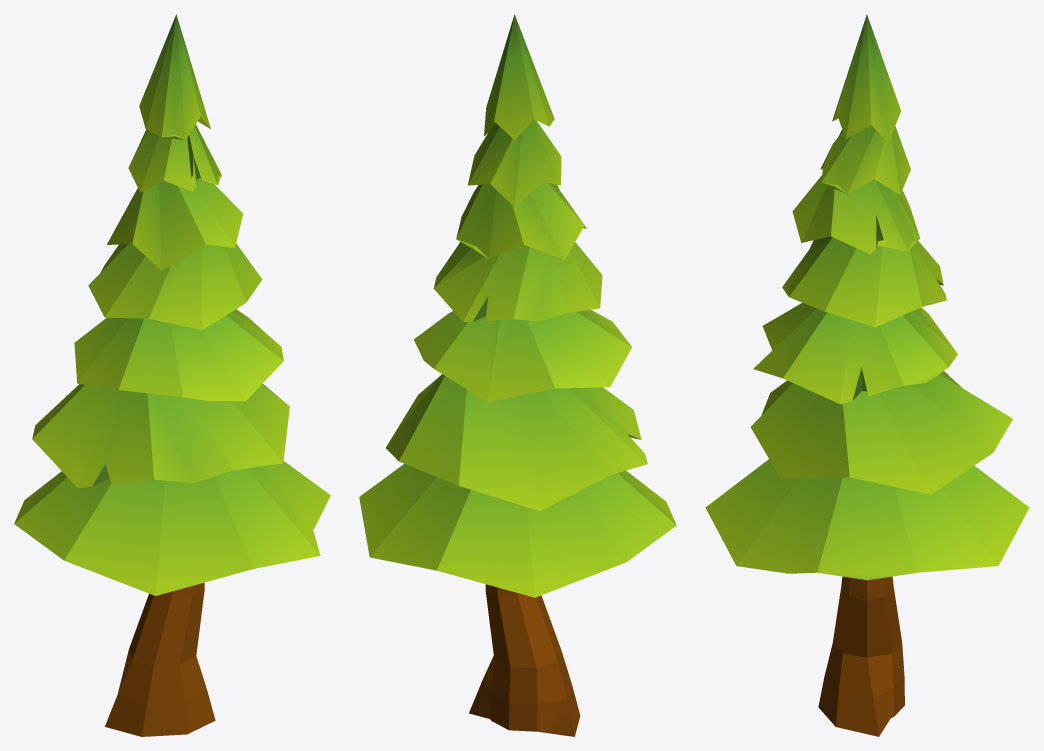
The model's file is tree.glb.
3 views of the same model, side by side, from view 1: azimuth 30°, elevation 25°; view 2: azimuth 150°, elevation 25°; view 3: azimuth 270°, elevation 25° (orthographic).
Parts seen in each view (by area): view 1: Cylinder_Material.002_0; view 2: Cylinder_Material.002_0; view 3: Cylinder_Material.002_0.
Part boxes in pixels (left/top/right/bottom): Cylinder_Material.002_0: left=14, top=14, right=330, bottom=736; Cylinder_Material.002_0: left=359, top=14, right=676, bottom=736; Cylinder_Material.002_0: left=705, top=14, right=1029, bottom=736.
Size of the model in its own units: 1.36 by 3.42 by 1.43.
2 materials, 2 textured.
